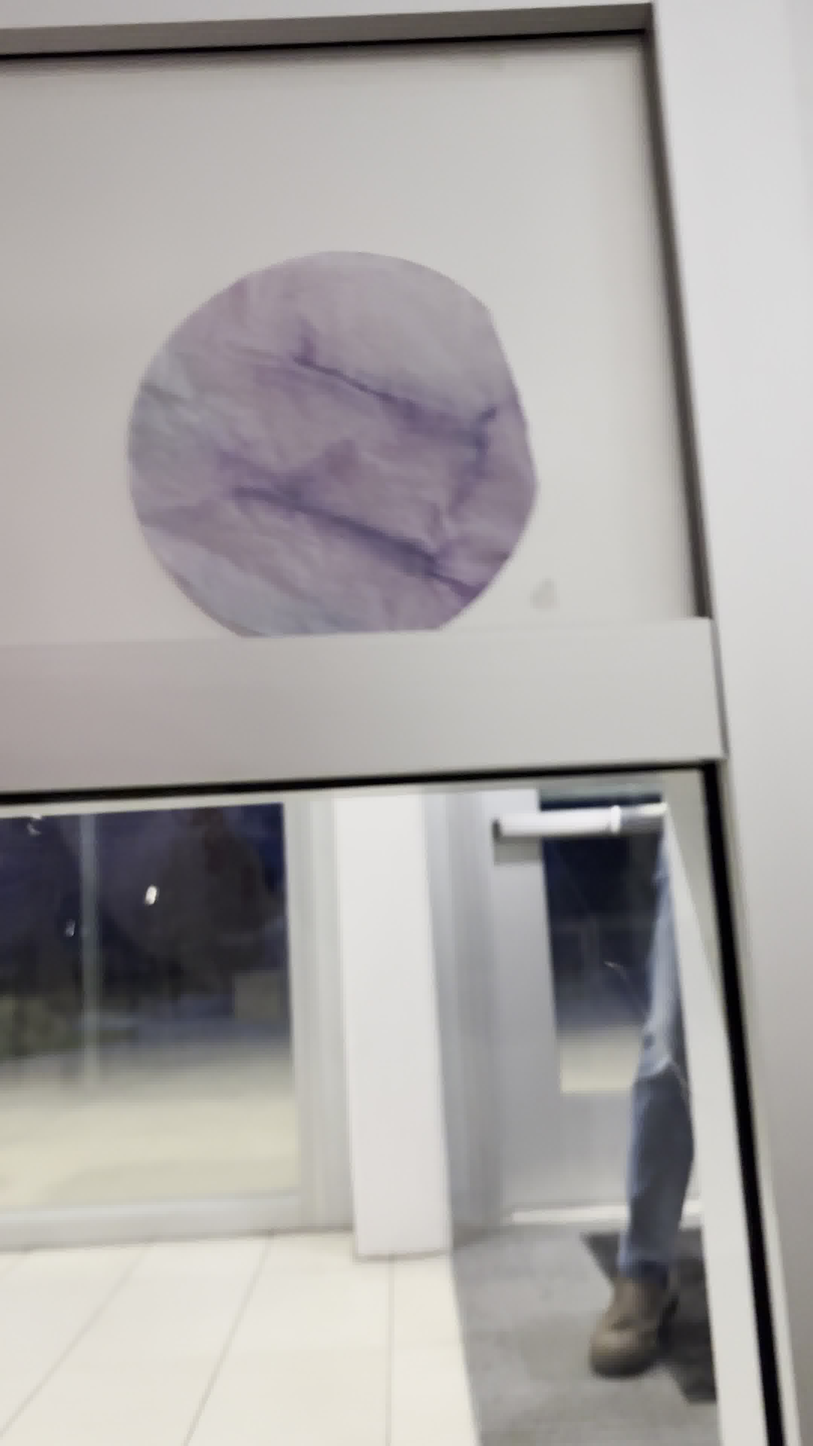Target: (110, 246, 550, 650)
